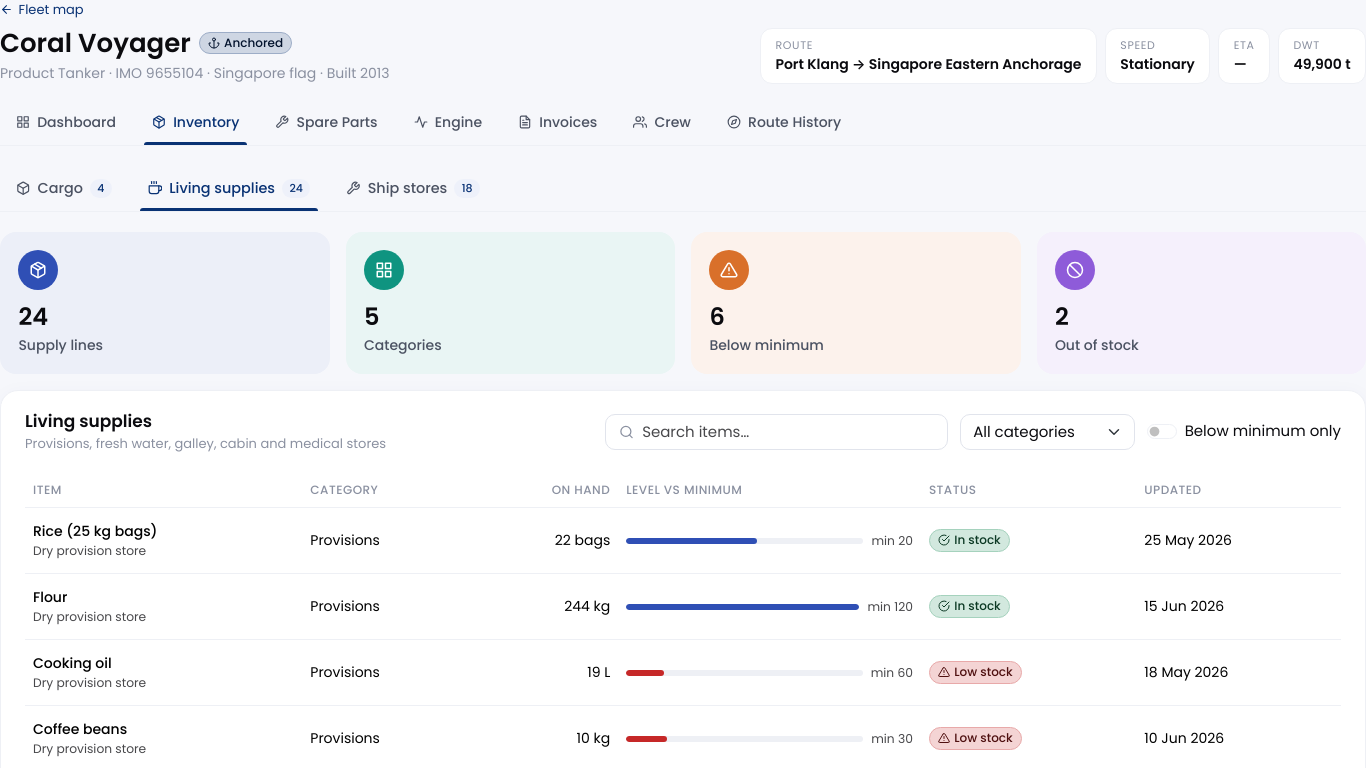
Test case: inventory page › living supplies: search narrows a read-only table
This screenshot has width=1366, height=768.
Type "coffee" into the search field named "Search living supplies" at (777, 432), box [605,414,948,450]
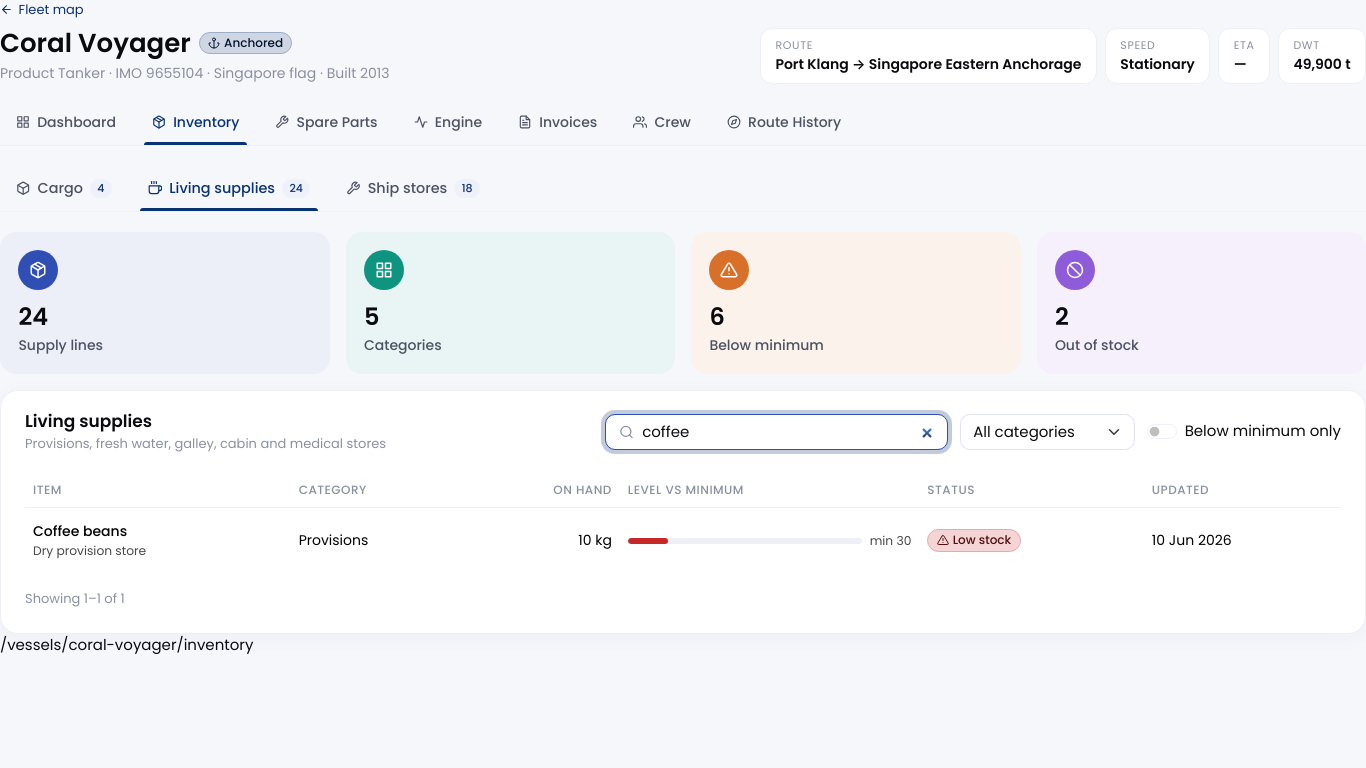
Expected: the text "Coffee beans" is shown, [33,521,127,541]
Expected: the number of rows is 2, [25,473,1341,508]; [25,508,1341,573]
